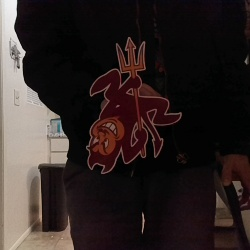sparky: (84, 35, 182, 174)
